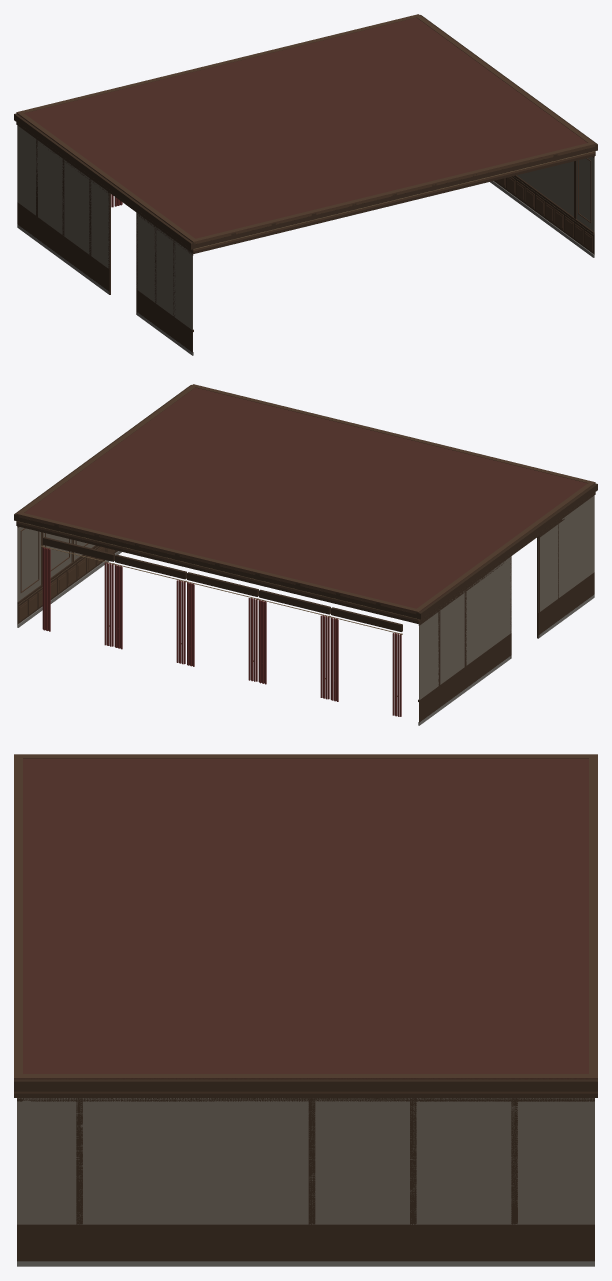
File: dr_shell.glb
The picture shows the model from 3 angles, top to bottom: view 1: azimuth 30°, elevation 25°; view 2: azimuth 150°, elevation 25°; view 3: azimuth 270°, elevation 25°; orthographic projection. The views are drawn at different scales.
Parts seen in each view (by area): view 1: dr_shell; view 2: dr_shell; view 3: dr_shell.
Boxes of the visible parts, <box> form: dr_shell: <box>14,14,597,355</box>; dr_shell: <box>14,384,597,725</box>; dr_shell: <box>14,754,597,1266</box>.
Size of the model in its own units: 26 by 7 by 19.6.
